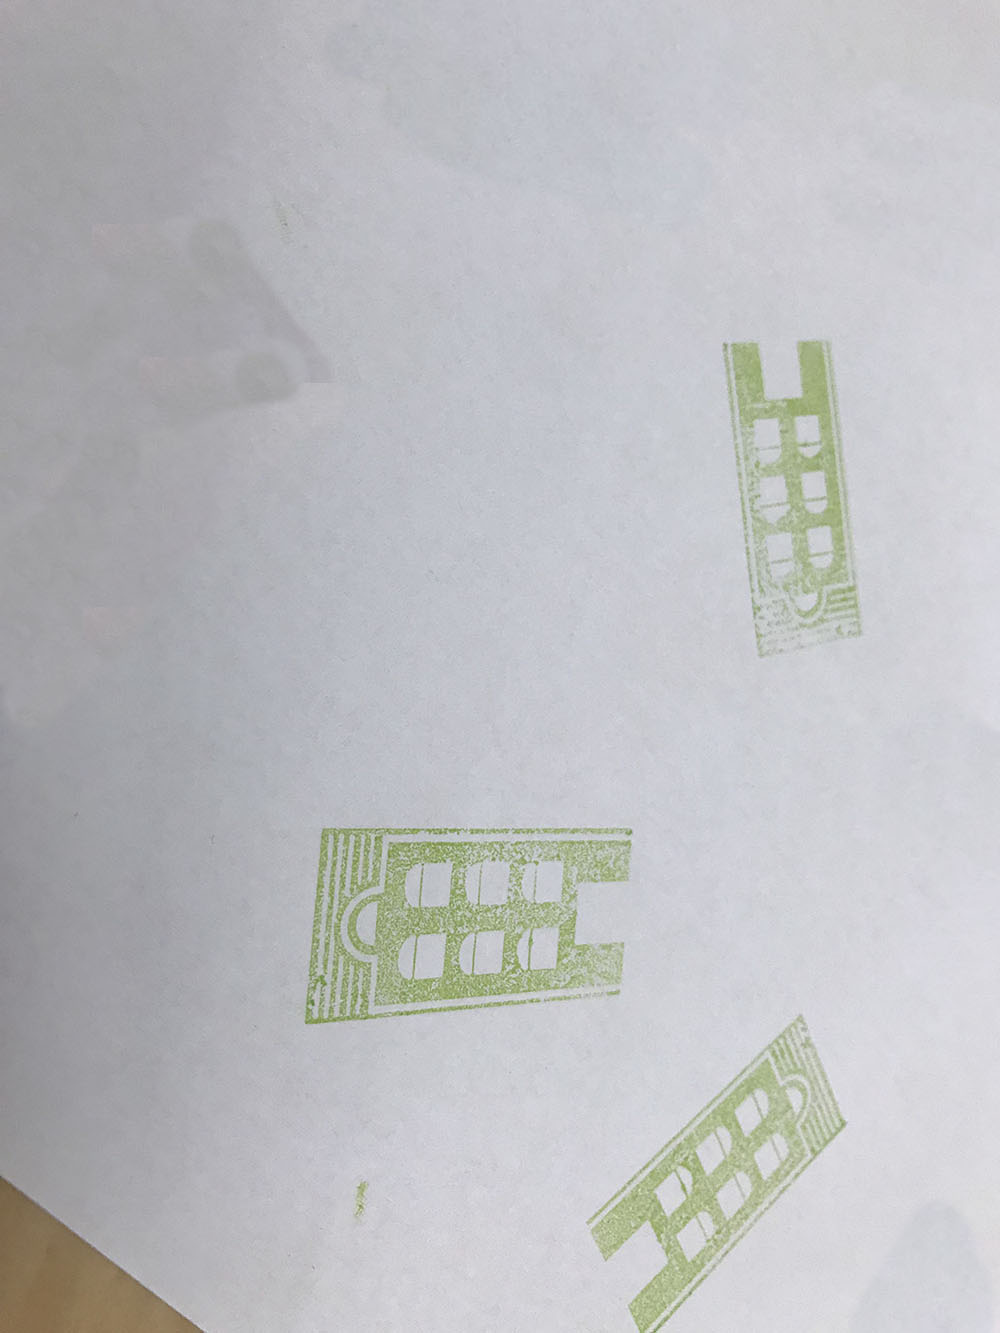build: (549, 1011, 879, 1332), (295, 782, 647, 1030), (688, 313, 899, 686)
